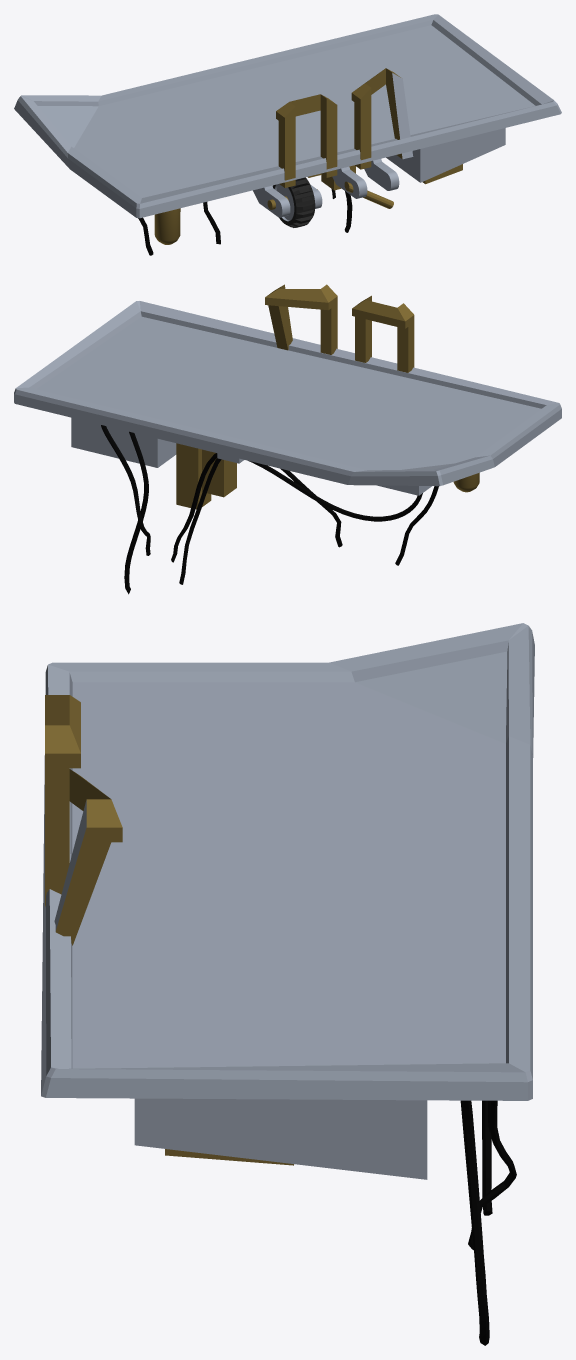
The model's file is lift_item_geometry-panic-factory_002.fbx.
3 views of the same model, one above another, from view 1: azimuth 30°, elevation 25°; view 2: azimuth 150°, elevation 25°; view 3: azimuth 270°, elevation 25° (orthographic). The views are drawn at different scales.
Visible parts, largest first — view 1: lift_item.geometry-panic-factory.002; view 2: lift_item.geometry-panic-factory.002; view 3: lift_item.geometry-panic-factory.002.
Boxes of the visible parts, x1,y1,x2,y2 form: lift_item.geometry-panic-factory.002: (14,14,561,255); lift_item.geometry-panic-factory.002: (14,284,561,594); lift_item.geometry-panic-factory.002: (41,623,534,1345).
Bounding box in the file's own units: 2.02 × 1.12 × 1.01.
